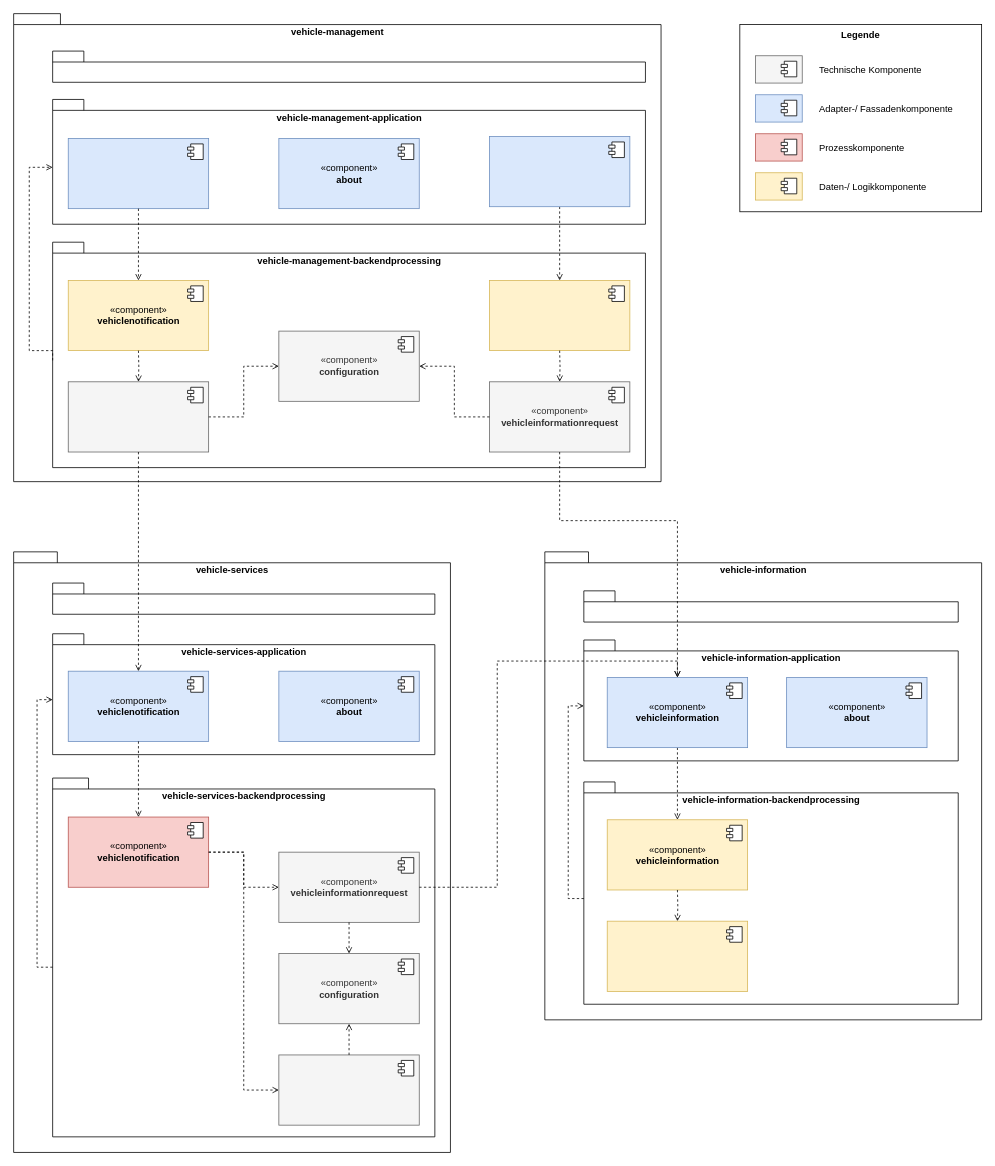
The diagram is 995 pixels wide and 1166 high, and some of its shapes have lost their labels. Here are the shapes that lost their labels. From the top down, the centre of each, then its label:
[348,66]: vehicle-management (root-pom)
[138,173]: «component» notification
[559,171]: «component» vehicle
[559,315]: «component» vehiclemanagement
[138,416]: «component» vehicleservicesrequest
[243,598]: vehicle-services (root-pom)
[770,606]: vehicle-information (root-pom)
[677,955]: «component» store
[348,1089]: «component» vehiclenotificationsender
